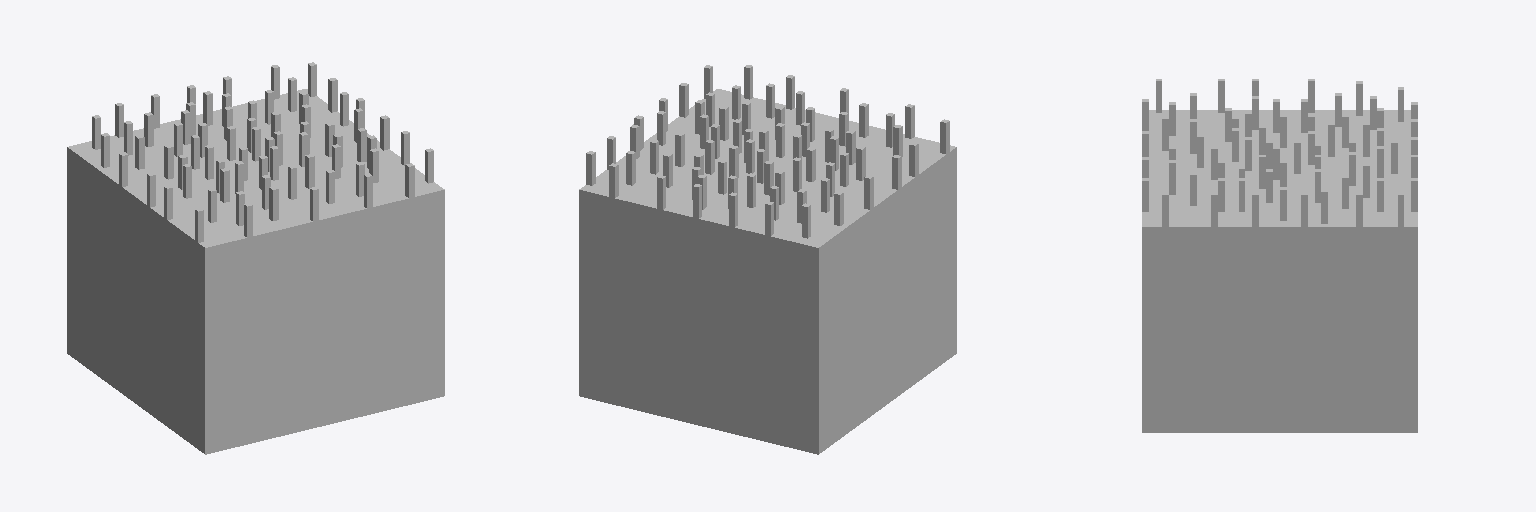
Rendered from GrassBlock2.obj.
3 views of the same model, side by side, from view 1: azimuth 30°, elevation 25°; view 2: azimuth 150°, elevation 25°; view 3: azimuth 270°, elevation 25° (orthographic).
Parts seen in each view (by area): view 1: object 1; view 2: object 1; view 3: object 1.
Boxes of the visible parts, box(x1,y1,x2,y2) form: object 1: box(67, 62, 444, 454); object 1: box(579, 65, 956, 454); object 1: box(1142, 79, 1417, 432).
Size of the model in its own units: 4 by 3.8 by 4.